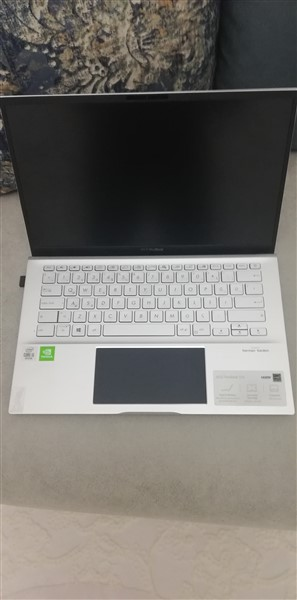laptop: (2, 86, 295, 418)
